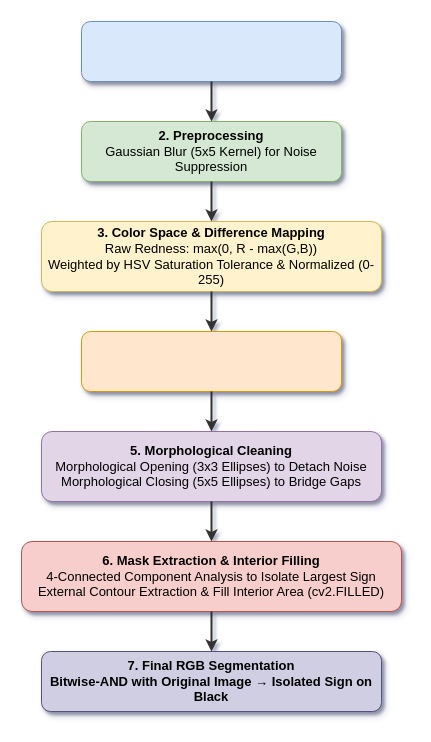
Image size: 431x742. Some labels were removed from this diagram. Here are the shapes that lost their labels. From the top down, the centre of each, then its label:
At point 212,52: "1. Image Input Load RGB Traffic Sign Image (cv2.imread)".
At point 212,362: "4. Adaptive Color Thresholding Otsu's Automatic Binarization (cv2.THRESH_OTSU)".
